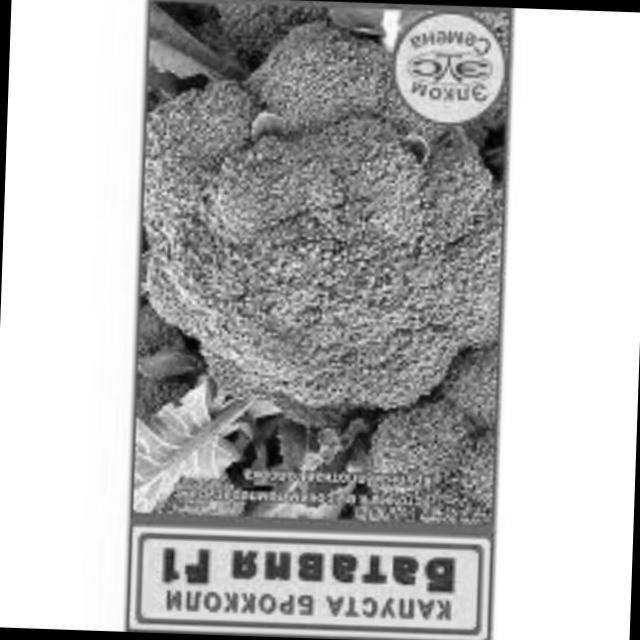bong cai xanh: (139, 0, 508, 438), (357, 350, 525, 540)
